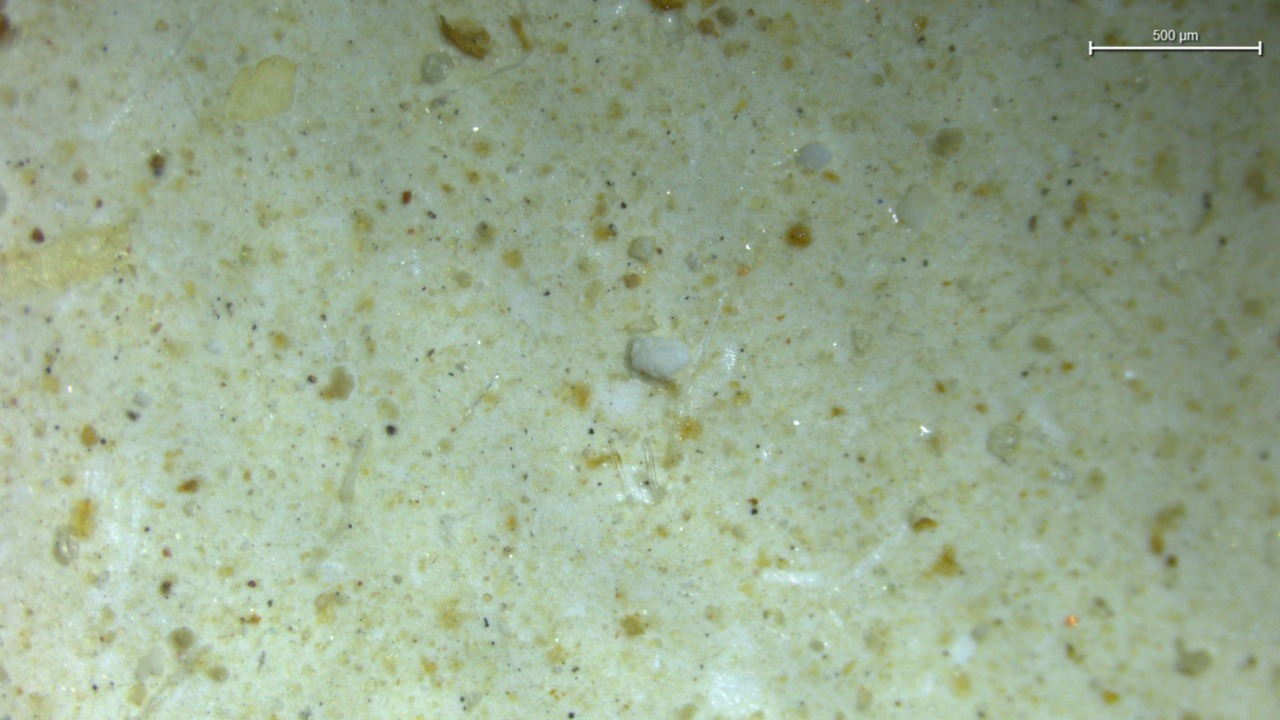microplastic_fragment: (629, 337, 690, 380), (897, 184, 935, 231), (988, 423, 1021, 461), (797, 142, 832, 170)
